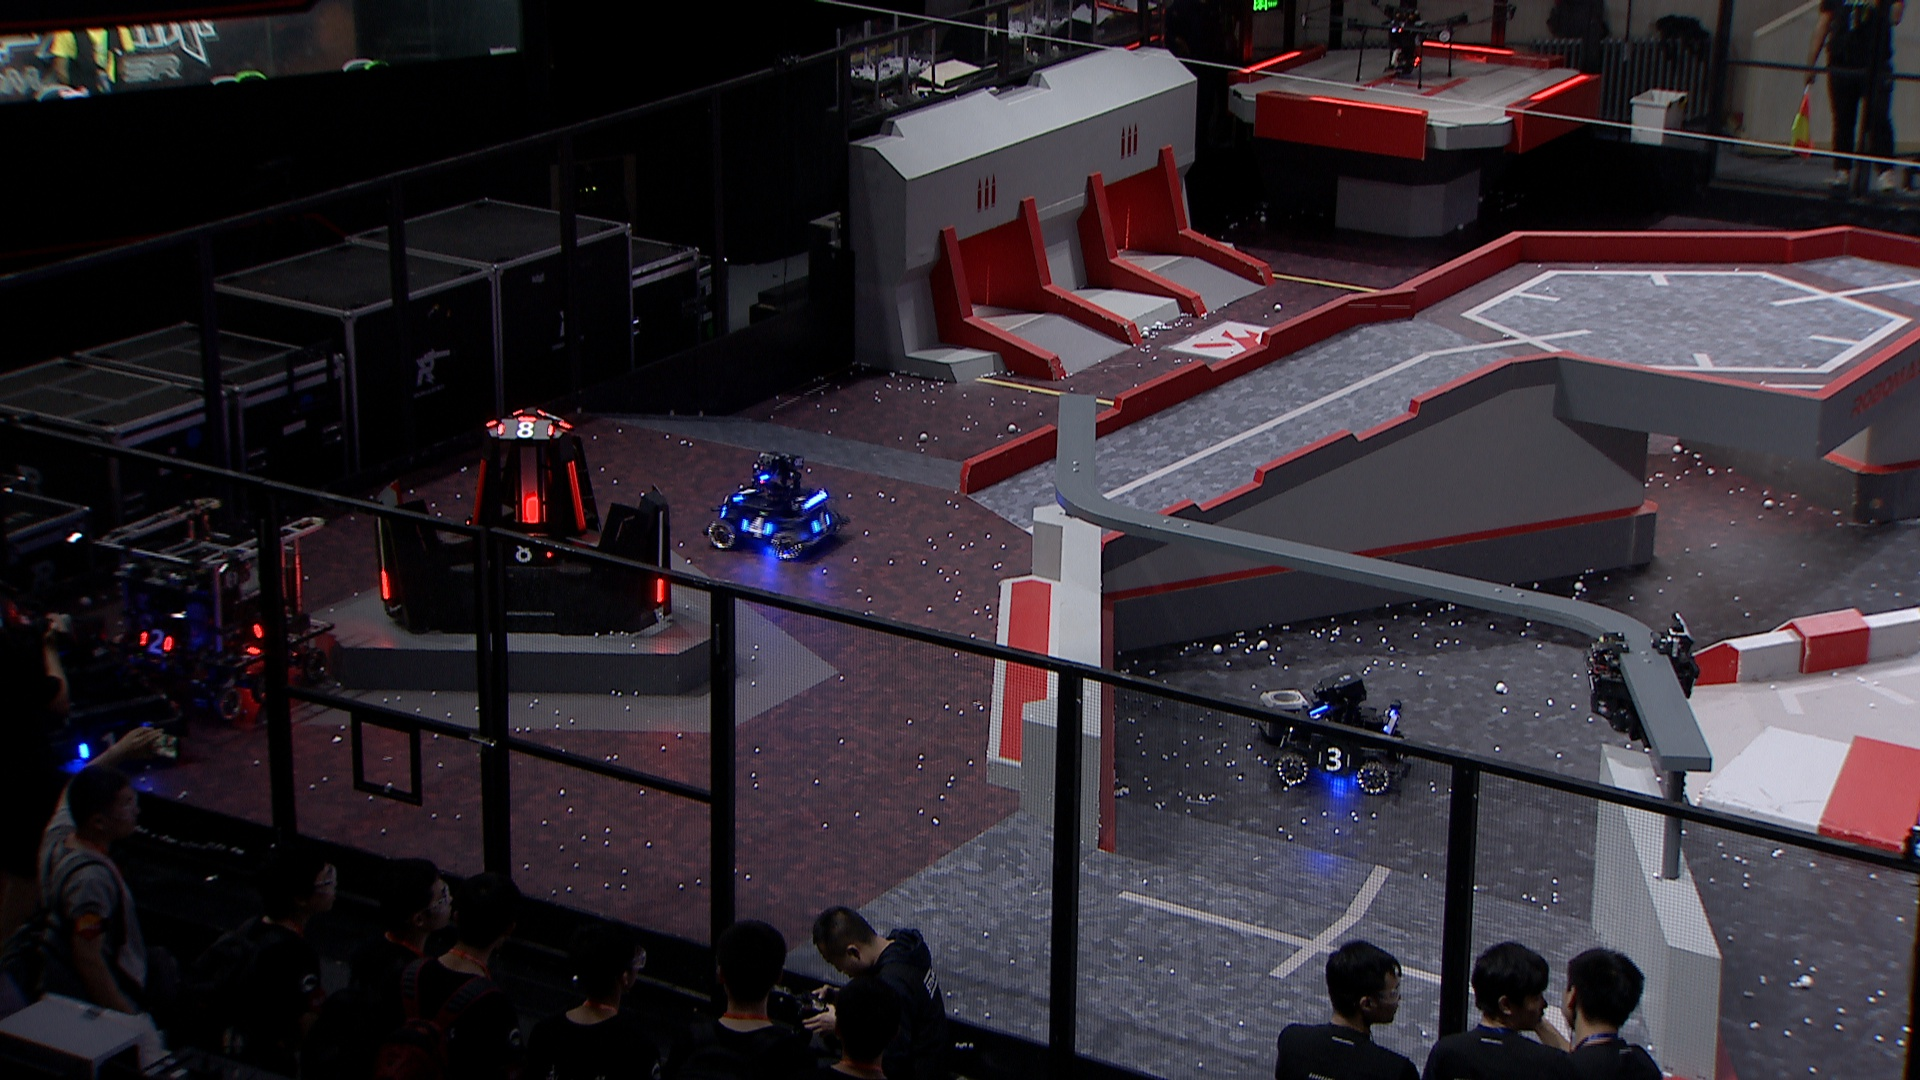armor: (73, 727, 138, 771), (560, 463, 589, 534), (496, 531, 555, 564), (465, 458, 489, 534), (496, 415, 556, 442), (136, 626, 177, 655), (1313, 744, 1354, 773), (517, 489, 545, 527), (737, 514, 775, 542), (812, 505, 835, 535), (731, 481, 757, 506), (375, 568, 394, 600), (655, 572, 667, 604)
base: (371, 406, 678, 636)
car: (94, 493, 335, 721), (0, 632, 174, 783), (1269, 671, 1418, 796), (708, 442, 851, 559)
watcher: (1582, 609, 1702, 750)
